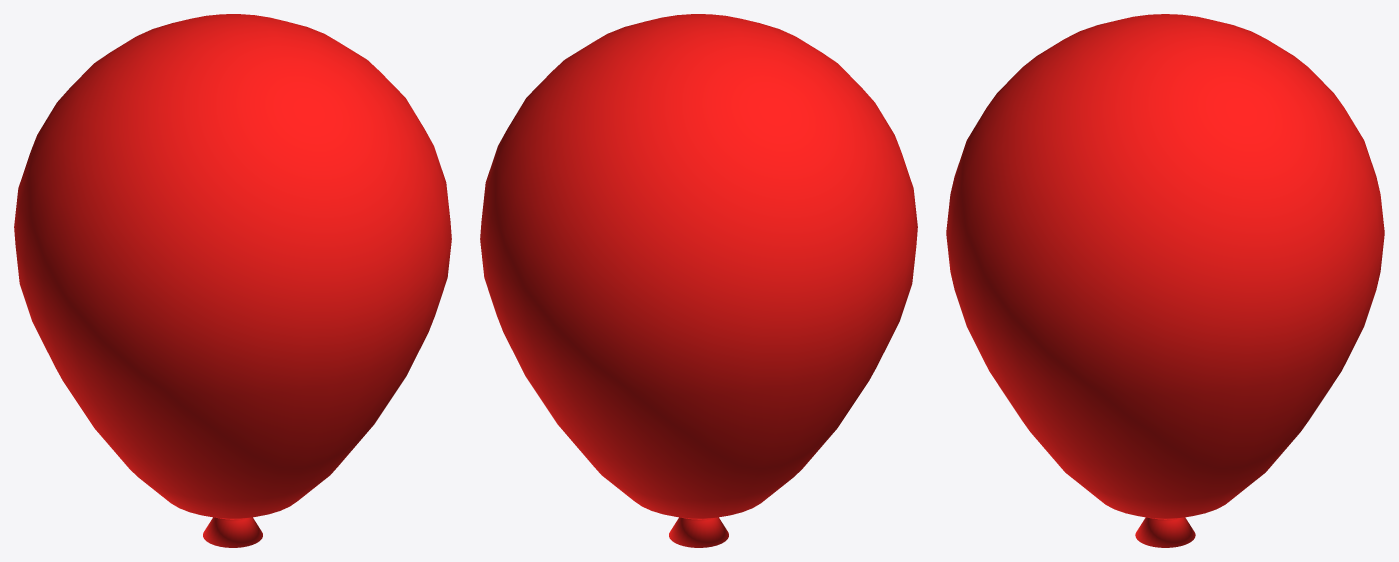
File: Ballon.fbx
3 renders of one model, left to right at view 1: azimuth 30°, elevation 25°; view 2: azimuth 150°, elevation 25°; view 3: azimuth 270°, elevation 25°, orthographic.
Parts seen in each view (by area): view 1: Sphere; view 2: Sphere; view 3: Sphere.
Boxes of the visible parts, x1=… form: Sphere: x1=14, y1=14, x2=451, y2=547; Sphere: x1=480, y1=14, x2=917, y2=547; Sphere: x1=946, y1=14, x2=1384, y2=547.
Bounding box in the file's own units: 2 × 2 × 2.52.
